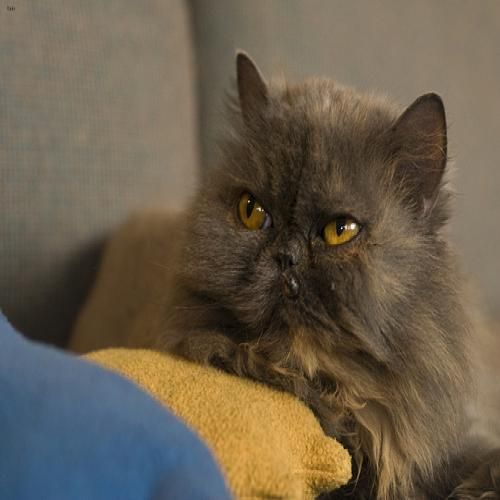persian: (180, 38, 465, 434)
